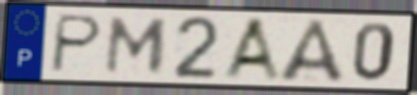0: (349, 21, 397, 84)
2: (172, 14, 221, 80)
A: (275, 17, 350, 85), (220, 15, 286, 84)
M: (102, 15, 172, 75)
P: (47, 12, 106, 75)
